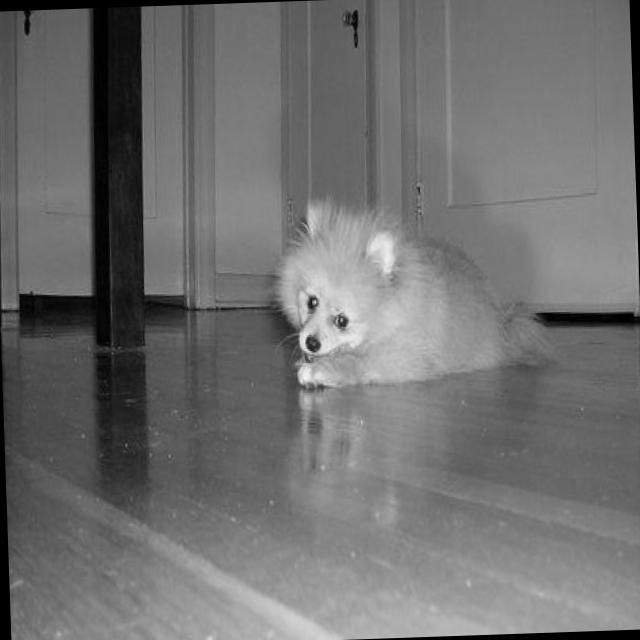laying down: (268, 186, 554, 396)
